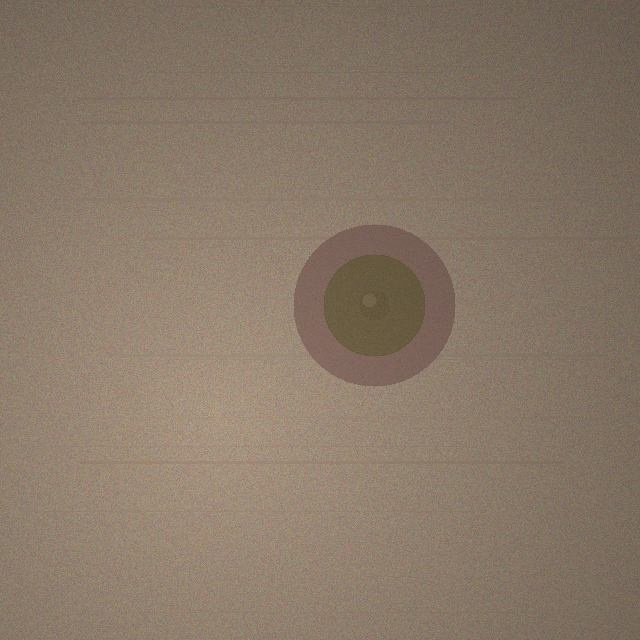good: (293, 224, 455, 386)
